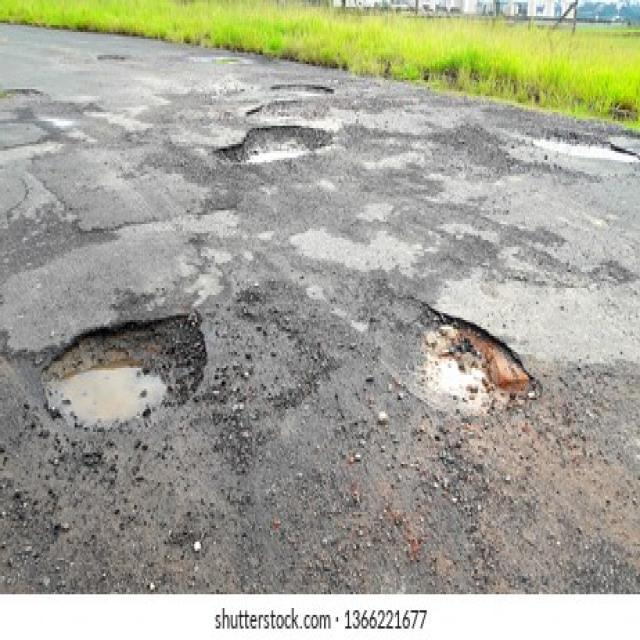Pothole: (40, 316, 209, 442), (408, 299, 538, 423), (208, 124, 334, 164), (518, 124, 640, 162), (245, 98, 331, 124), (270, 80, 337, 98), (0, 87, 51, 110), (95, 52, 126, 62)
